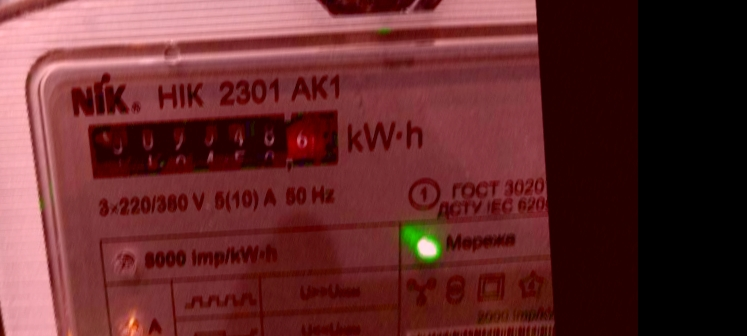0: (137, 126, 153, 150), (107, 128, 121, 154)
3: (198, 121, 213, 148)
4: (228, 119, 243, 147)
6: (290, 123, 309, 151)
8: (258, 119, 274, 147)
9: (167, 124, 183, 151)
screen: (75, 102, 348, 187)
